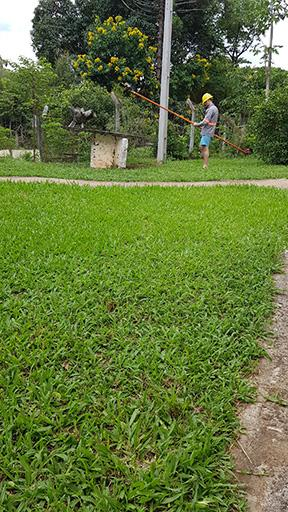Vara_Manobra: (130, 89, 248, 154)
